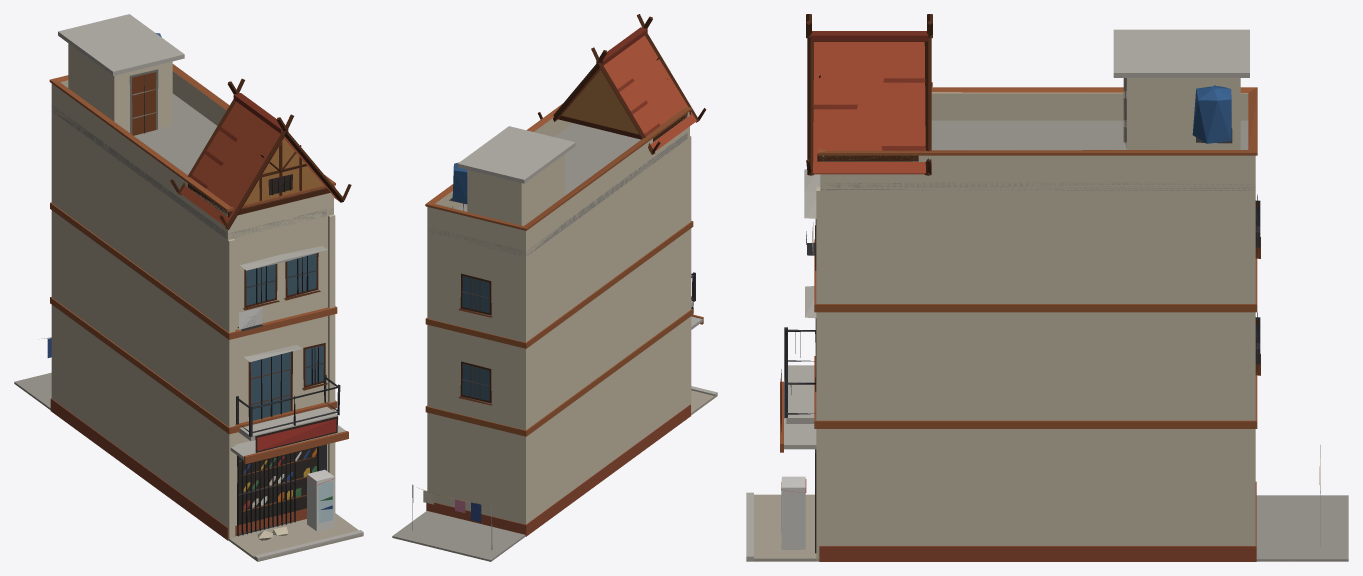
The model's file is bay2_mid2.glb.
3 renders of one model, left to right at view 1: azimuth 30°, elevation 25°; view 2: azimuth 150°, elevation 25°; view 3: azimuth 270°, elevation 25°, orthographic. The views are drawn at different scales.
Visible parts, largest first — view 1: body, windows; view 2: body, windows; view 3: body.
Boxes of the visible parts, box(x1,y1,x2,y2) form: body: box(14, 14, 363, 561); windows: box(237, 174, 323, 524); body: box(392, 14, 717, 561); windows: box(462, 276, 489, 401); body: box(746, 14, 1348, 561).
Bounding box in the file's own units: 4.98 × 14.94 × 15.9.
